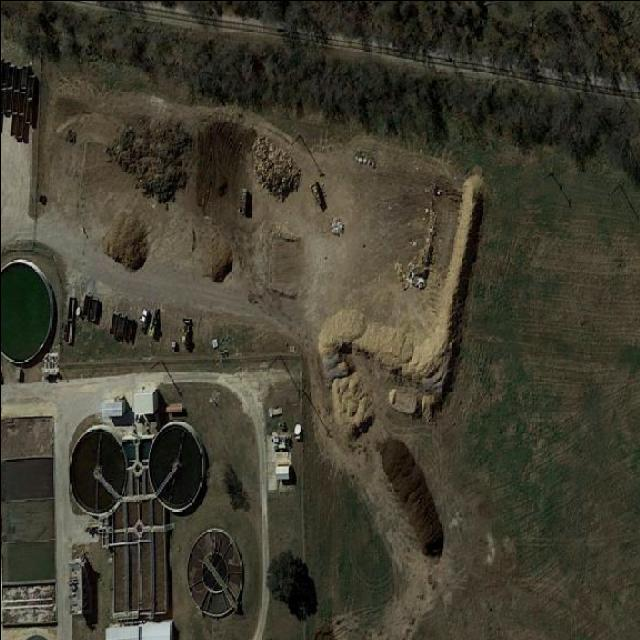dump_site: (106, 114, 190, 212), (243, 127, 306, 212), (328, 211, 347, 240), (309, 182, 321, 205), (239, 188, 246, 212)
